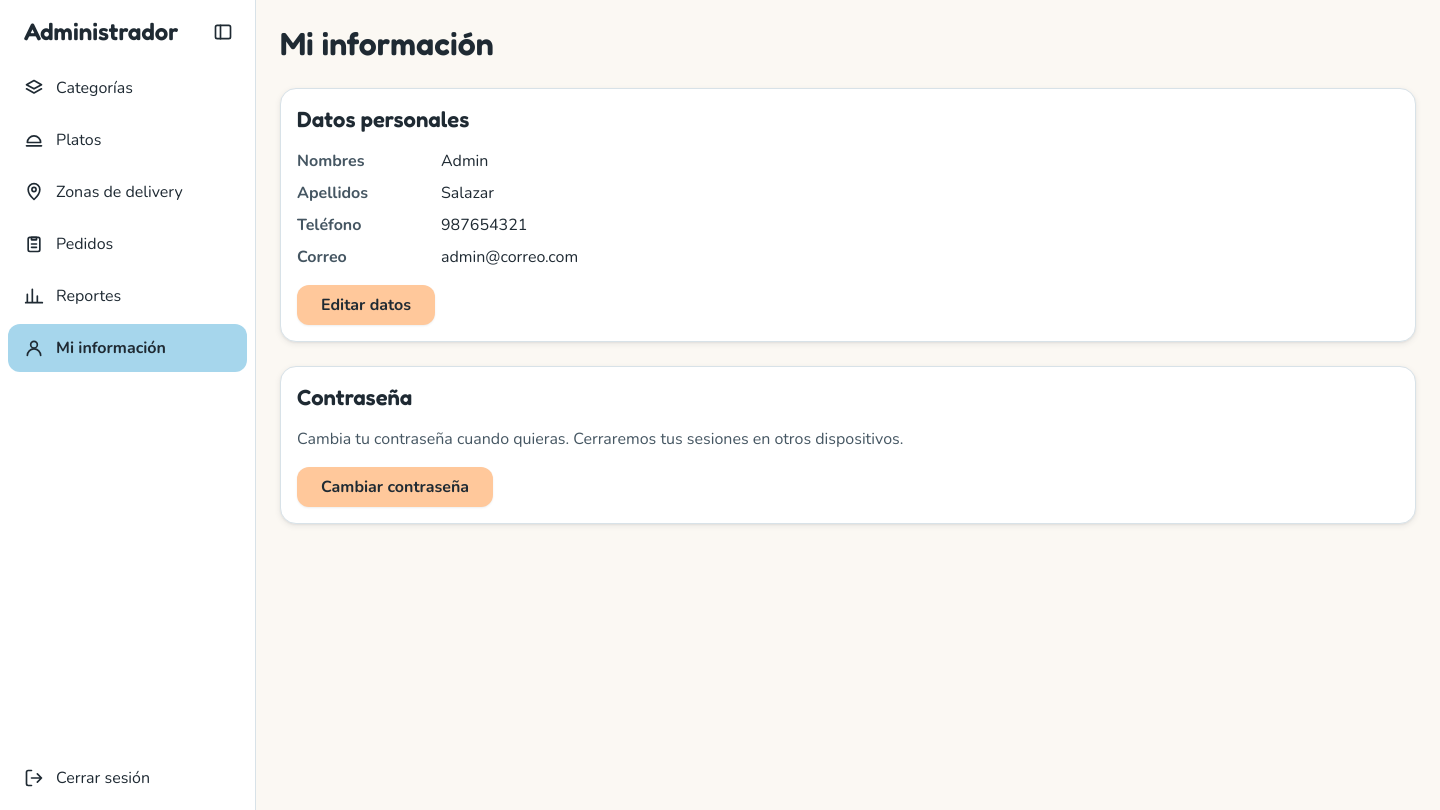
Test: Panel de administración › desde "Mi información" se abren los diálogos independientes de datos y de contraseña
This screenshot has width=1440, height=810.
Click the button "Editar datos" at (366, 305), box x1=297 y1=285 x2=435 y2=325
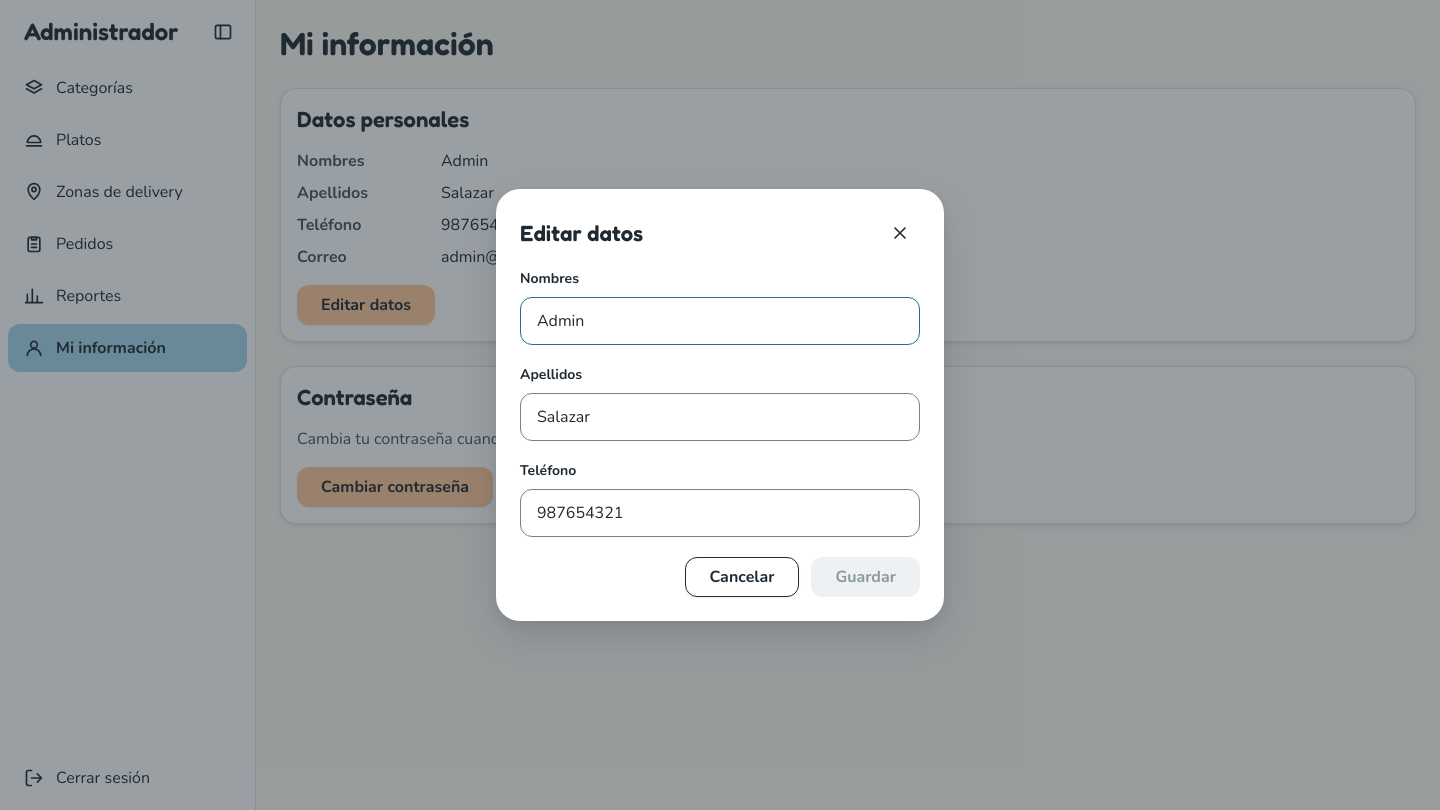
Result: the dialog "Editar datos" is shown at x1=496 y1=189 x2=944 y2=621
Click the button "Cancelar" at (742, 577), box x1=684 y1=557 x2=799 y2=597
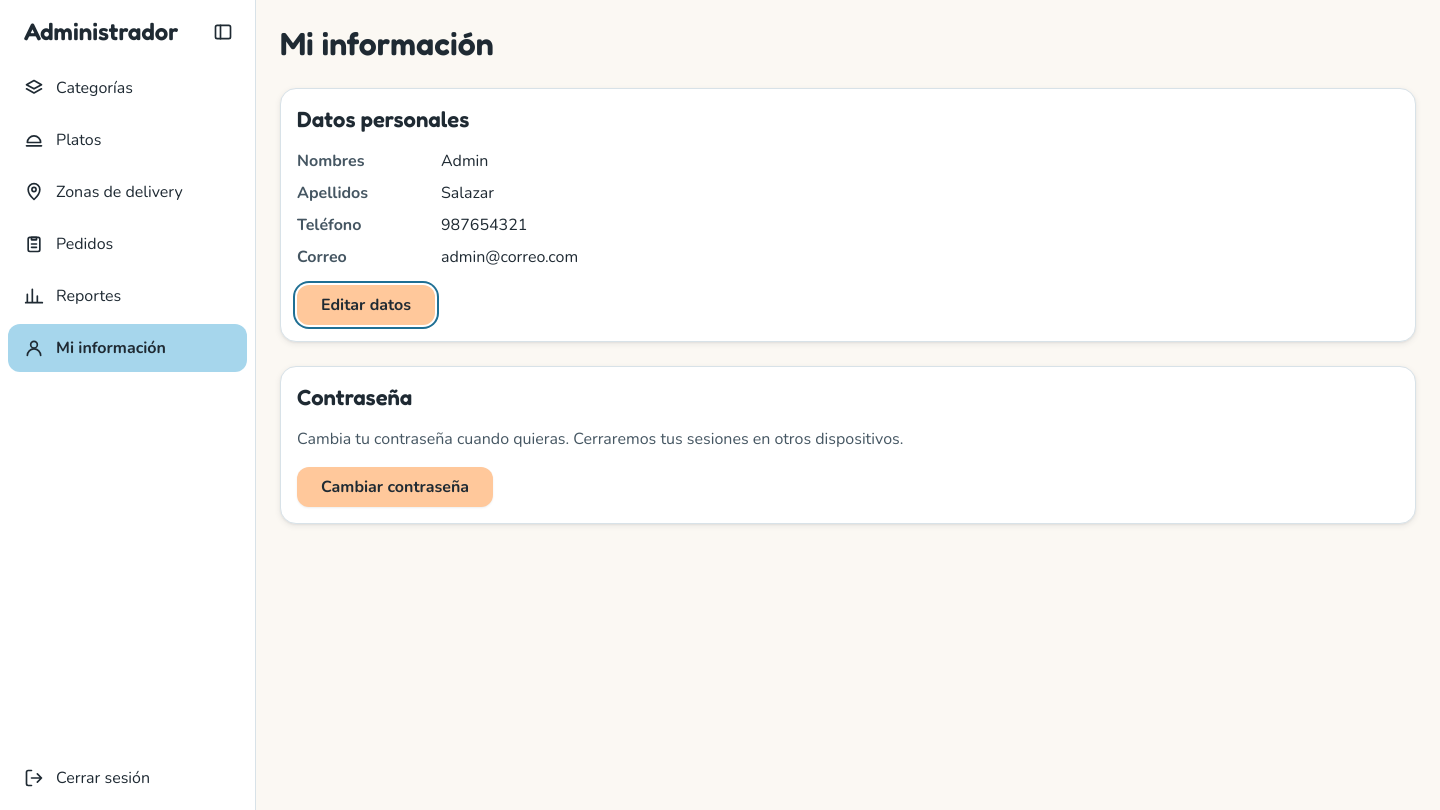
Click the button "Cambiar contraseña" at (395, 487), box x1=297 y1=467 x2=493 y2=507
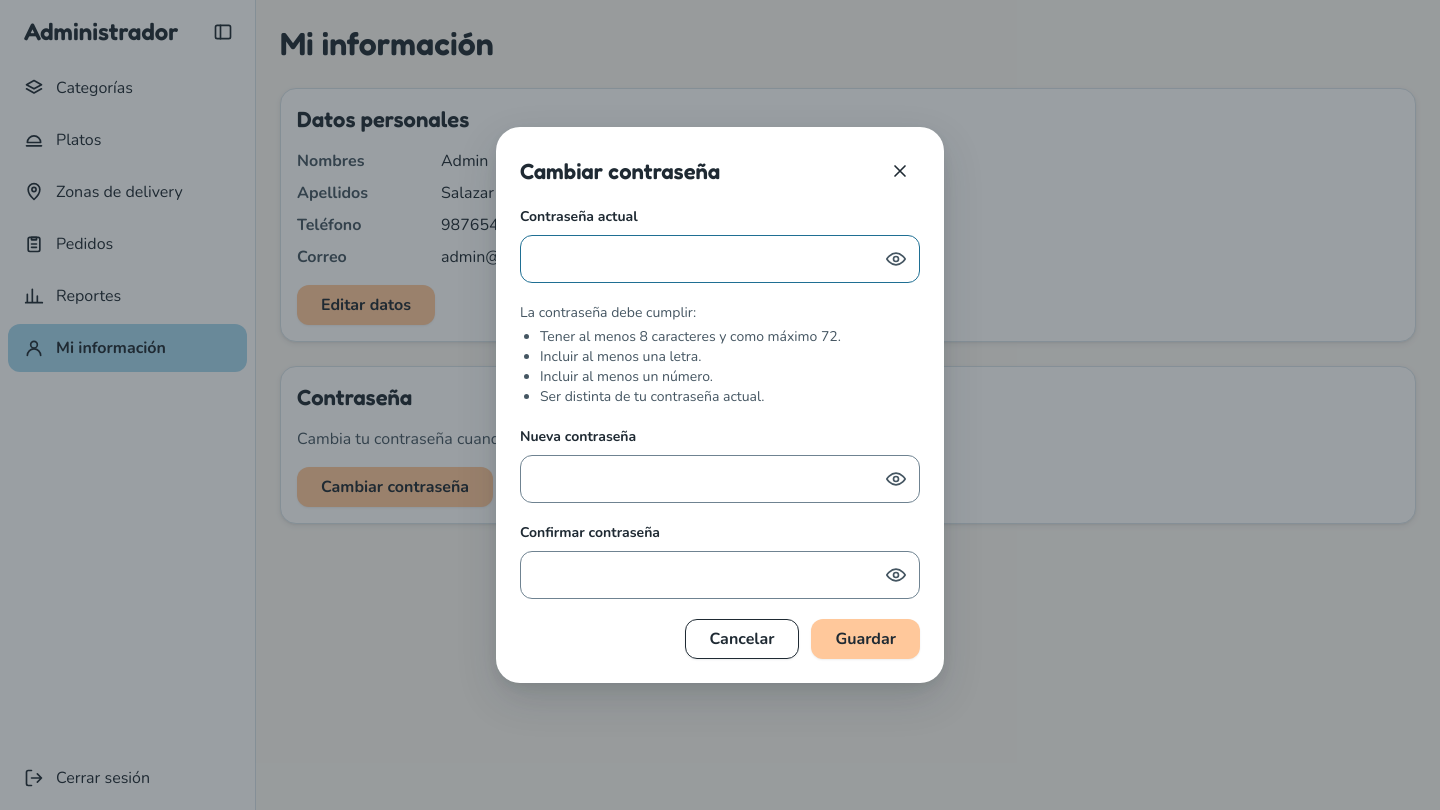
Result: the dialog "Cambiar contraseña" is shown at x1=496 y1=127 x2=944 y2=683
